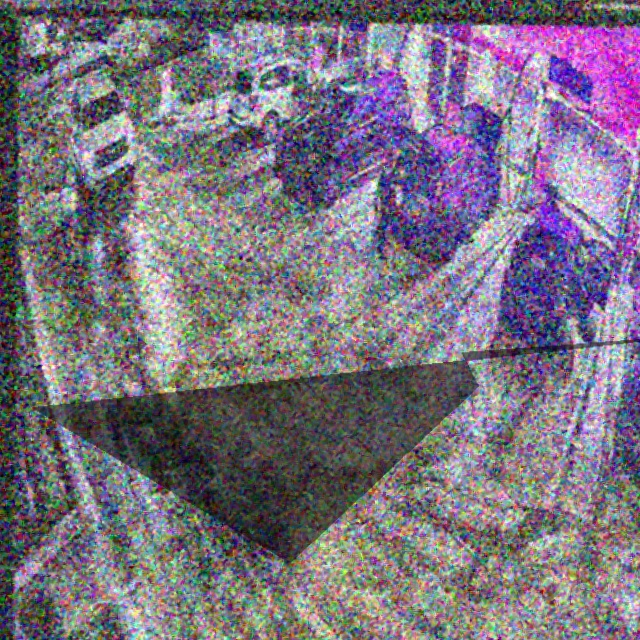Car: (390, 102, 501, 263), (277, 69, 414, 199)
